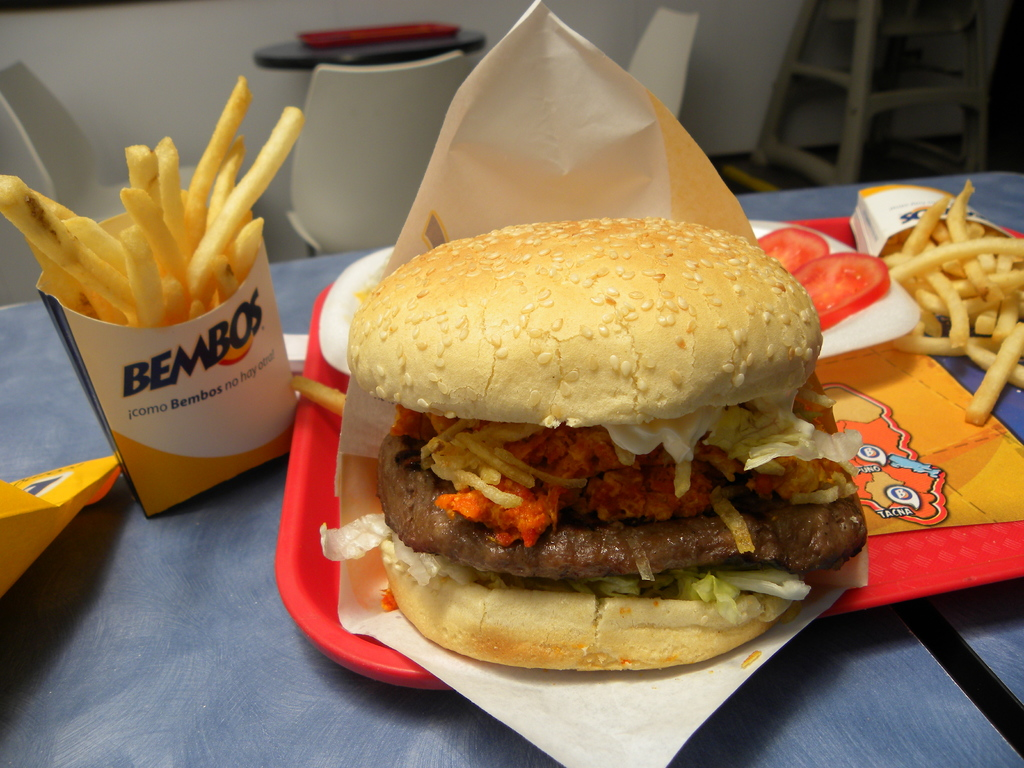French fries: (0, 74, 303, 327)
